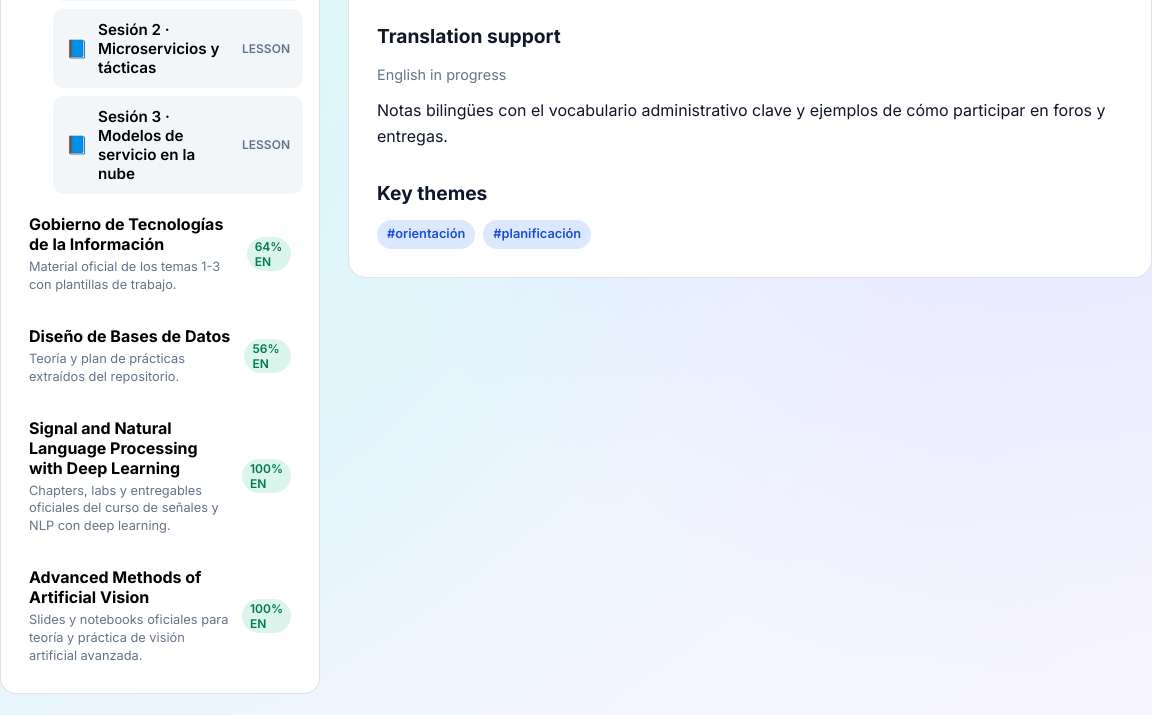
Test: SubjectsPage › lists advanced database theory units including temas 3 y 4
The width and height of the screenshot is (1152, 715).
(page scrolled)
Click the button "Diseño de Bases de Datos": [160, 356] box [17,314,303,398]
(page scrolled)
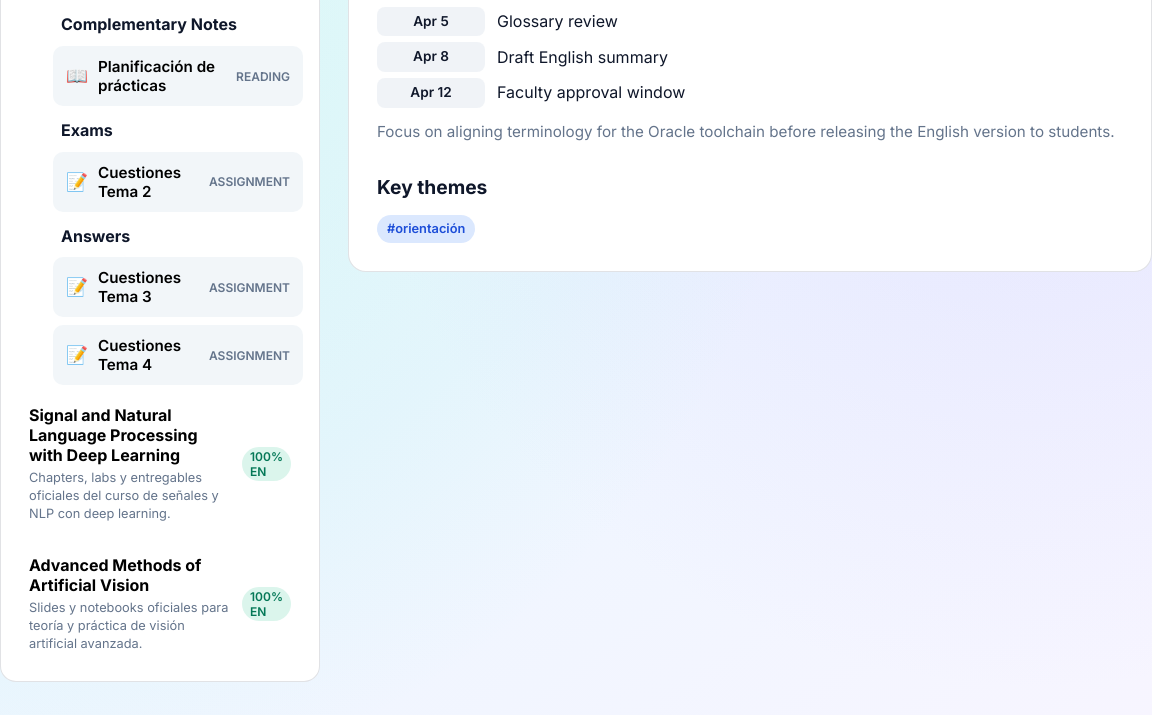
Check: the button "📝 Cuestiones Tema 3 assignment" is shown, box [53,257,303,317]
Check: the button "📝 Cuestiones Tema 4 assignment" is shown, box [53,325,303,385]
